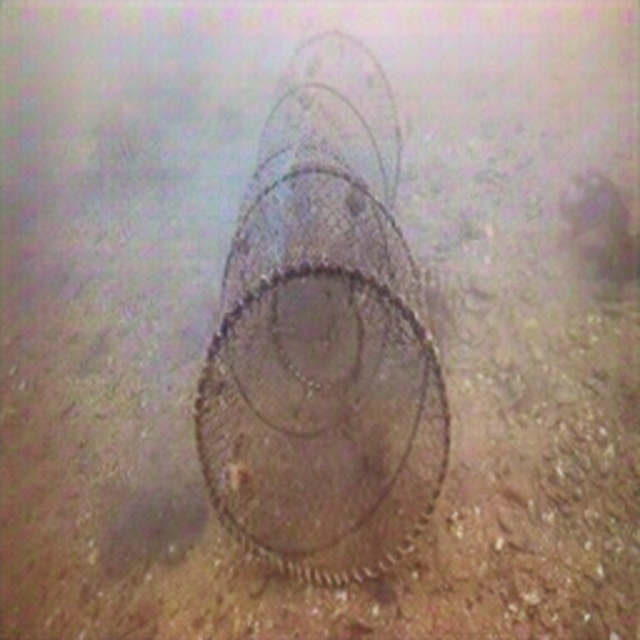mine: (194, 29, 453, 592)
